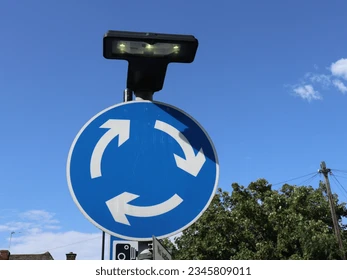roundabout: (46, 82, 243, 253)
